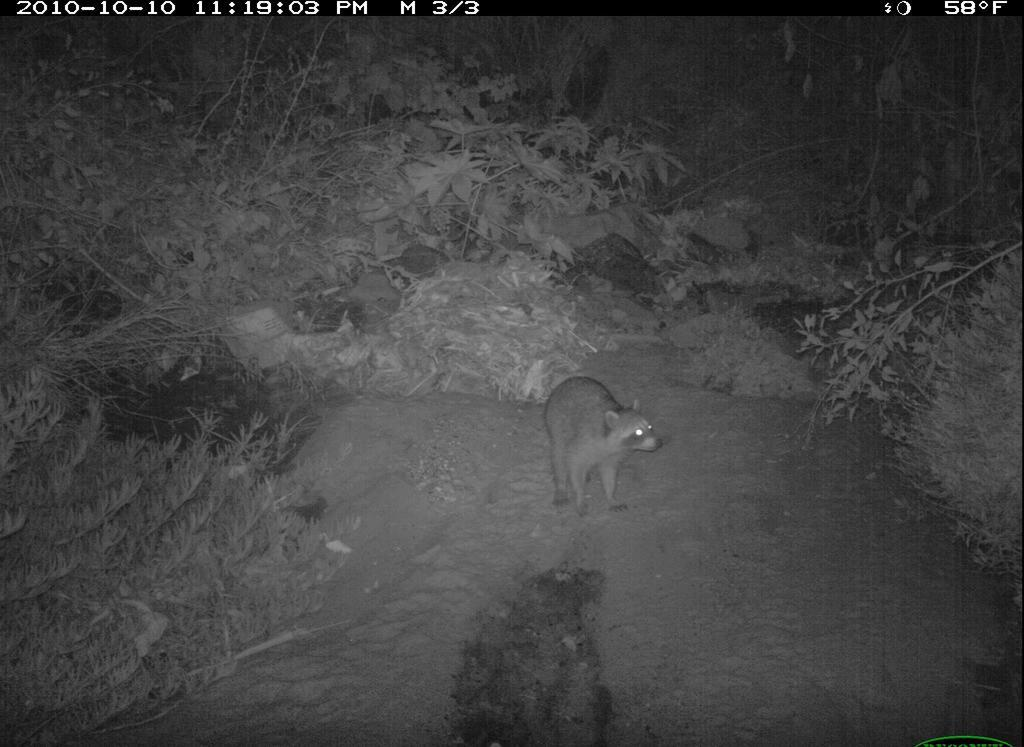raccoon: (543, 374, 673, 524)
